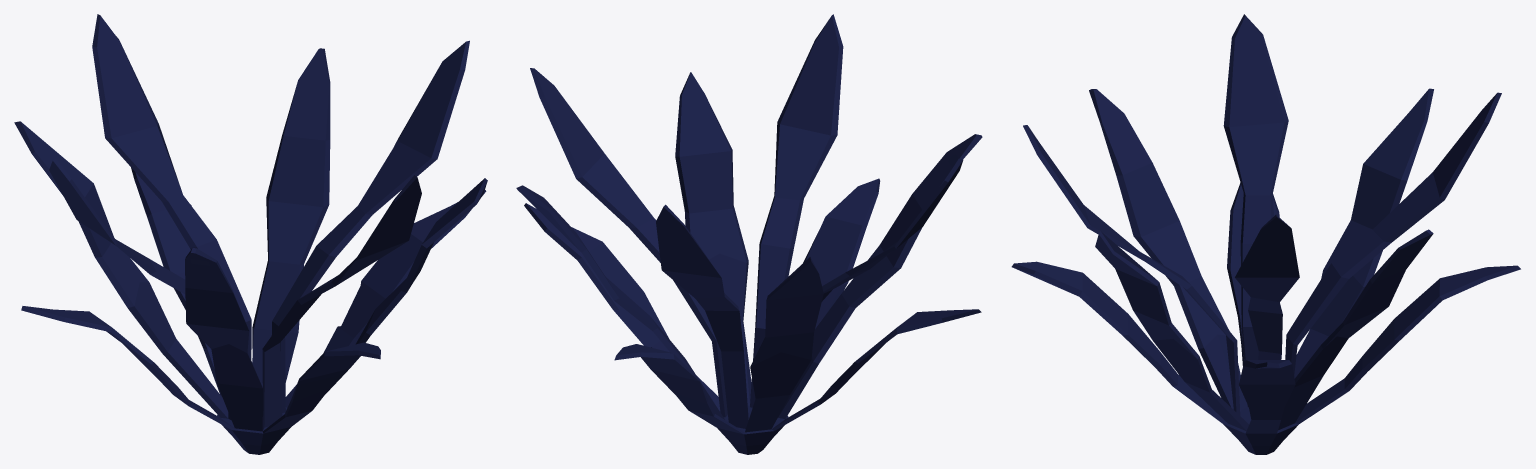
Rendered from follliage_2_healthy.fbx.
The picture shows the model from 3 angles, left to right: view 1: azimuth 30°, elevation 25°; view 2: azimuth 150°, elevation 25°; view 3: azimuth 270°, elevation 25°; orthographic projection. The views are drawn at different scales.
Visible parts, largest first — view 1: follliage_2_healthy; view 2: follliage_2_healthy; view 3: follliage_2_healthy.
Part boxes in pixels (box(x1,y1,x2,y2)): follliage_2_healthy: box(14, 14, 487, 454); follliage_2_healthy: box(516, 14, 982, 454); follliage_2_healthy: box(1011, 14, 1520, 454).
Size of the model in its own units: 1.03 by 1.01 by 0.7431.
